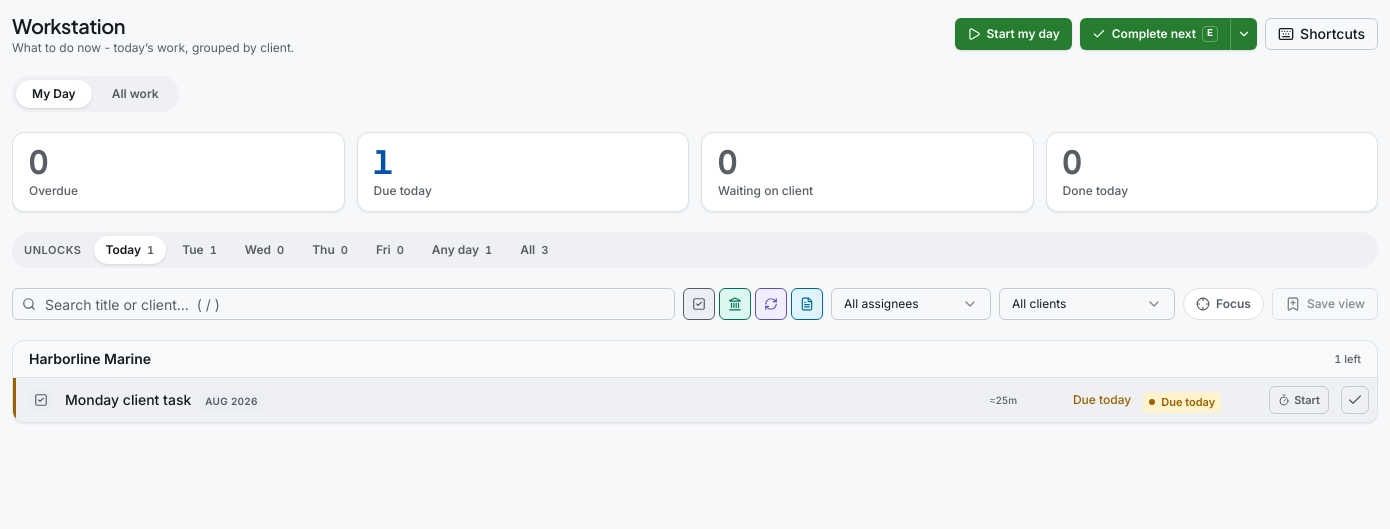
it: WorkstationQueue work-day chips › All shows every client; Any day shows only unassigned-day clients
Click the button with test id "work-day-chip-all" at (534, 250), box [508, 236, 560, 264]
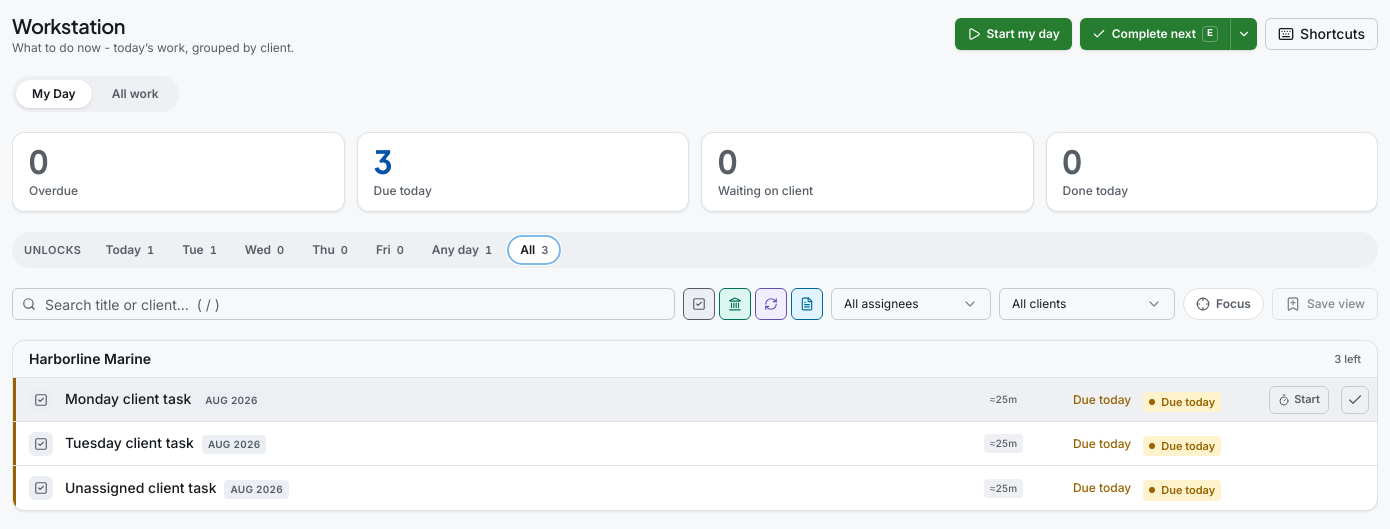
Expected: the text "Monday client task" is shown, [65, 389, 191, 409]
Now the text "Tuesday client task" is shown, box [65, 433, 194, 453]
Now the text "Unassigned client task" is shown, box [65, 478, 216, 498]
Click the button with test id "work-day-chip-any" at (462, 250), box [420, 236, 504, 264]
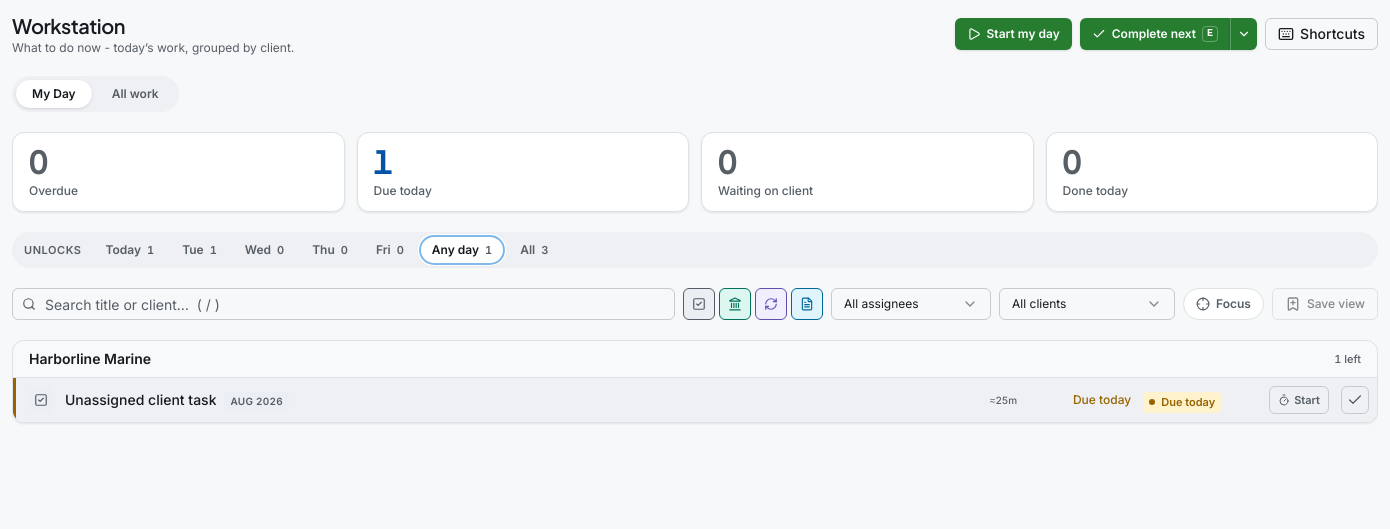
Now the text "Unassigned client task" is shown, box [65, 390, 216, 410]
Now the text "Monday client task" is gone
Now the text "Tuesday client task" is gone
